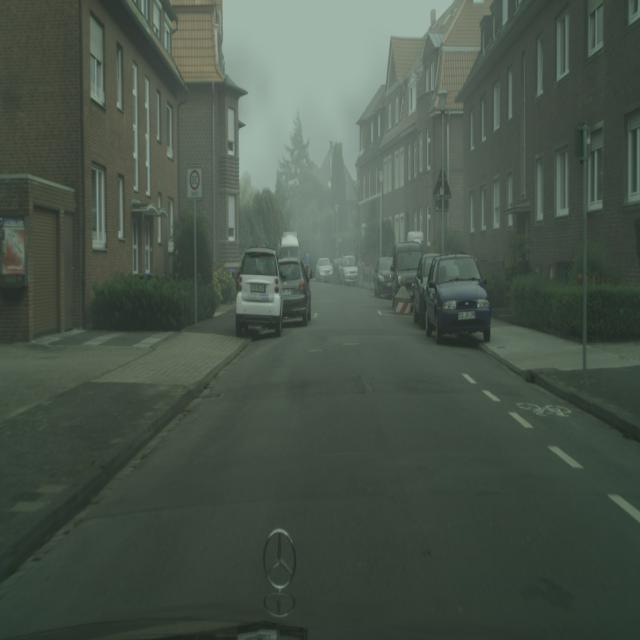person: (304, 249, 311, 281)
train: (278, 231, 302, 262)
truck: (423, 252, 491, 345), (235, 246, 283, 339), (278, 258, 312, 327), (392, 241, 423, 313), (412, 252, 439, 327), (373, 255, 395, 298), (334, 255, 358, 286), (315, 258, 333, 282)
